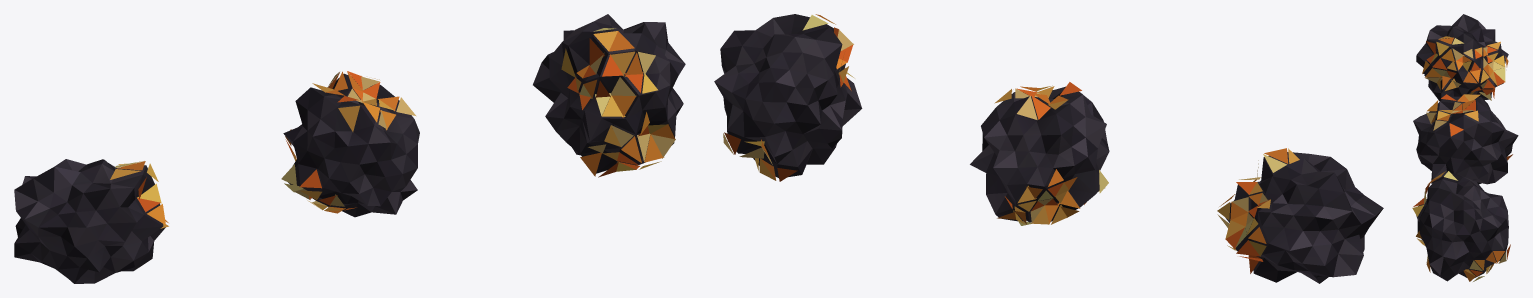
Rendered from meteor.glb.
3 renders of one model, left to right at view 1: azimuth 30°, elevation 25°; view 2: azimuth 150°, elevation 25°; view 3: azimuth 270°, elevation 25°, orthographic. The views are drawn at different scales.
Visible parts, largest first — view 1: body_a, body_b, body_c, lit_c, lit_b, lit_a; view 2: body_c, body_a, body_b, lit_b, lit_a, lit_c; view 3: body_c, body_b, body_a, lit_a, lit_b, lit_c.
Boxes of the visible parts, <box> form: body_a: <box>14,159,165,283</box>; body_b: <box>283,73,419,217</box>; body_c: <box>533,14,685,173</box>; lit_c: <box>561,28,675,177</box>; lit_b: <box>281,71,416,213</box>; lit_a: <box>110,161,168,228</box>; body_c: <box>714,14,862,177</box>; body_a: <box>1226,152,1383,283</box>; body_b: <box>970,86,1109,222</box>; lit_b: <box>994,82,1108,225</box>; lit_a: <box>1217,148,1299,273</box>; lit_c: <box>723,14,854,181</box>; body_c: <box>1416,173,1508,281</box>; body_b: <box>1413,96,1518,184</box>; body_a: <box>1416,14,1508,101</box>; lit_a: <box>1422,36,1508,100</box>; lit_b: <box>1426,94,1512,160</box>; lit_c: <box>1412,171,1510,281</box>.
Size of the model in its own units: 5.02 by 1.1 by 1.09.
